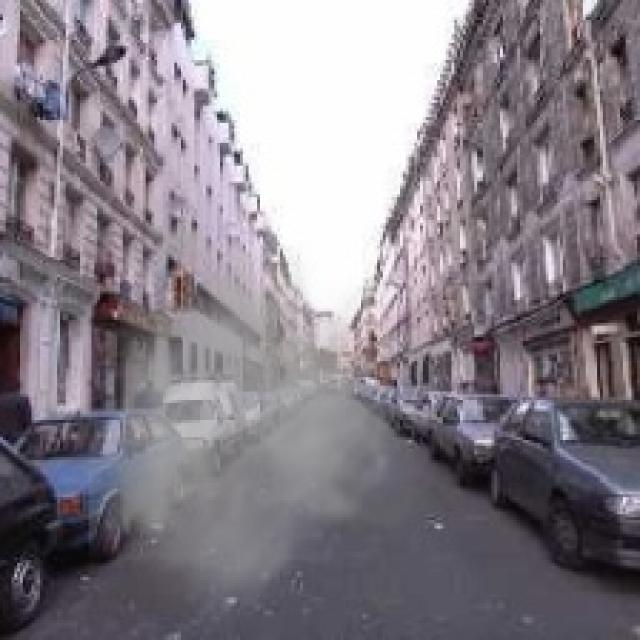smoke: (89, 234, 434, 626)
